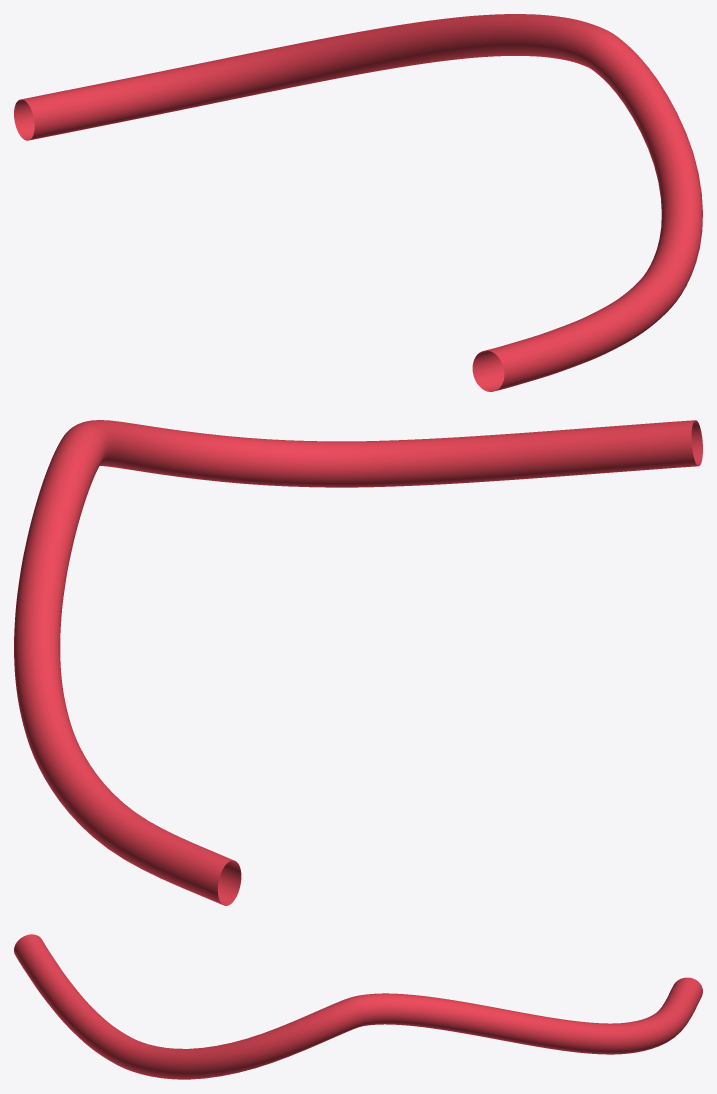
File: Tubo.fbx
The picture shows the model from 3 angles, top to bottom: view 1: azimuth 30°, elevation 25°; view 2: azimuth 150°, elevation 25°; view 3: azimuth 270°, elevation 25°; orthographic projection. The views are drawn at different scales.
Visible parts, largest first — view 1: Sphere.004; view 2: Sphere.004; view 3: Sphere.004.
Boxes of the visible parts, box(x1,y1,x2,y2) form: Sphere.004: box(14, 14, 702, 391); Sphere.004: box(14, 420, 702, 905); Sphere.004: box(14, 934, 702, 1079).
Bounding box in the file's own units: 5780 × 2660 × 12167.
